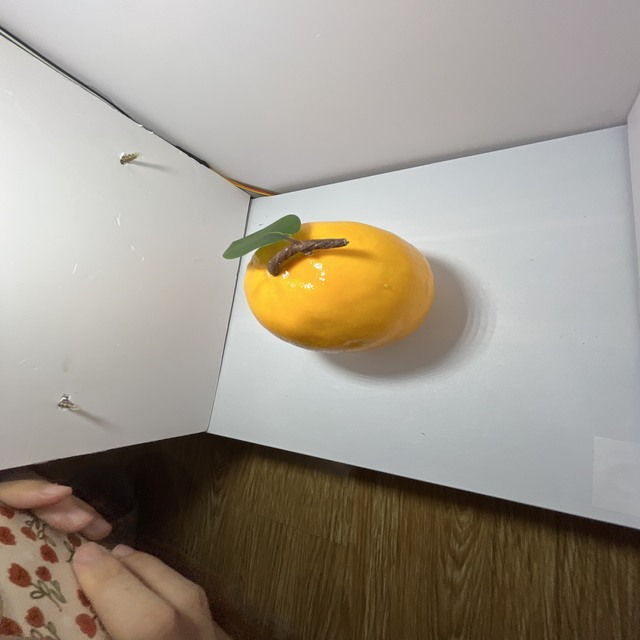Cam vang: (242, 219, 439, 352)
